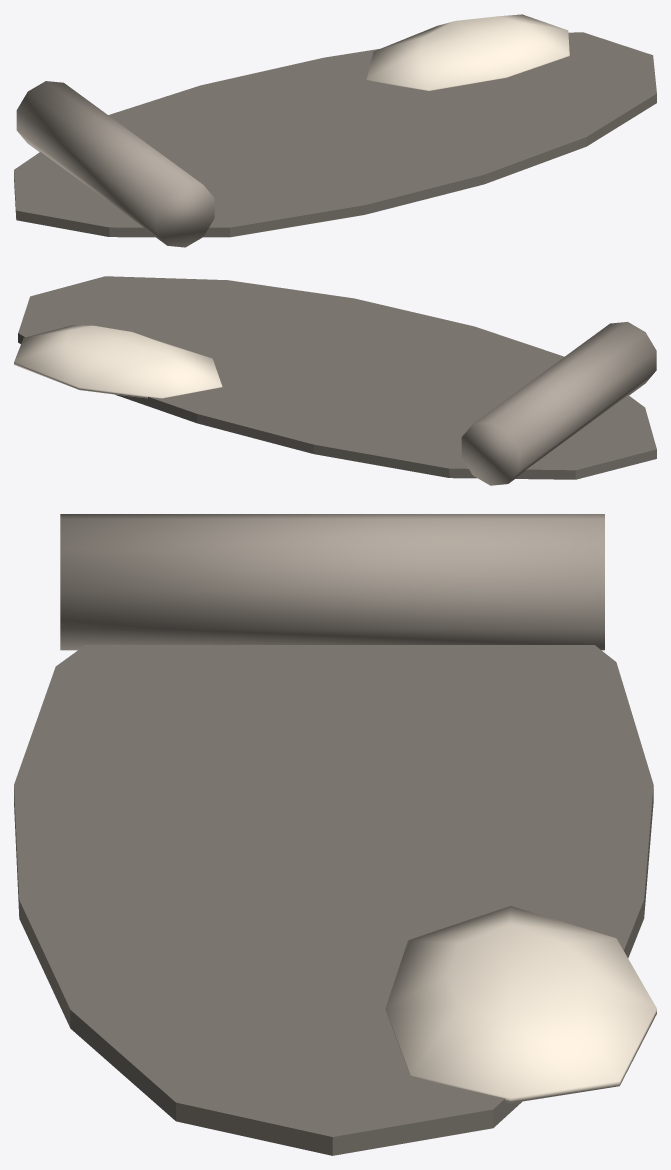
The model's file is SM_VKI_Overlay_Bedroll.fbx.
3 renders of one model, top to bottom at view 1: azimuth 30°, elevation 25°; view 2: azimuth 150°, elevation 25°; view 3: azimuth 270°, elevation 25°, orthographic. The views are drawn at different scales.
Visible parts, largest first — view 1: SM_VKI_Overlay_Bedroll.001; view 2: SM_VKI_Overlay_Bedroll.001; view 3: SM_VKI_Overlay_Bedroll.001.
Boxes of the visible parts, bbox=[...] form: SM_VKI_Overlay_Bedroll.001: bbox=[14, 14, 656, 247]; SM_VKI_Overlay_Bedroll.001: bbox=[14, 276, 656, 485]; SM_VKI_Overlay_Bedroll.001: bbox=[14, 514, 656, 1155].
Size of the model in its own units: 1.45 by 0.14 by 0.6492.
